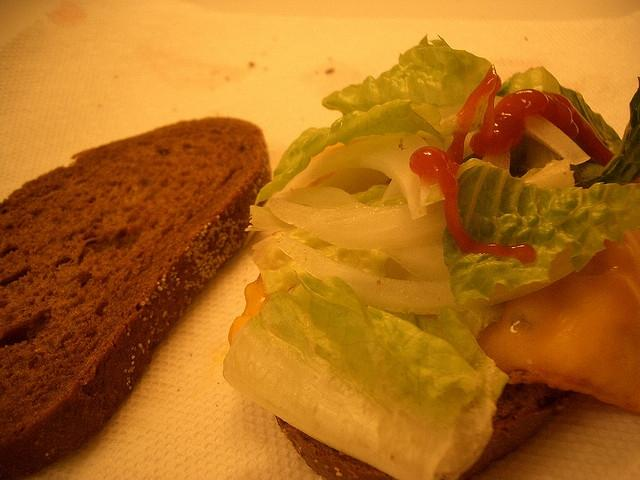lettuce: (223, 235, 509, 480), (254, 34, 492, 207), (442, 164, 638, 306), (273, 229, 575, 314), (497, 67, 640, 189)
